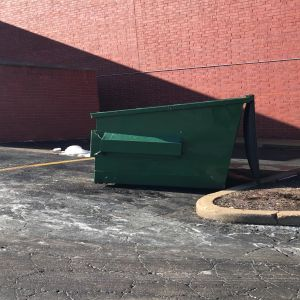Dumpster: (86, 93, 264, 196)
